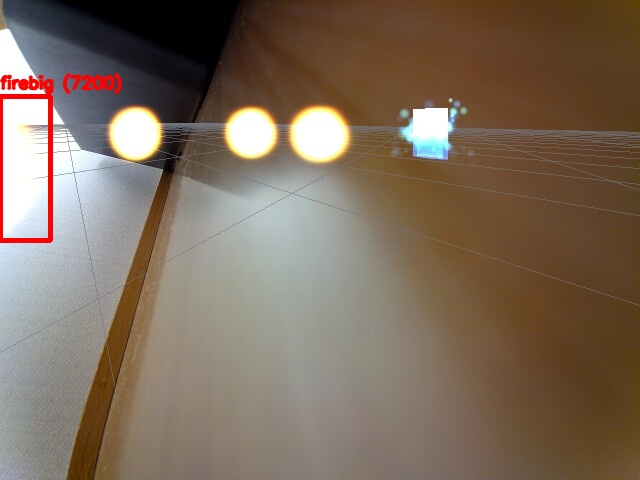firebig: (0, 96, 50, 240)
